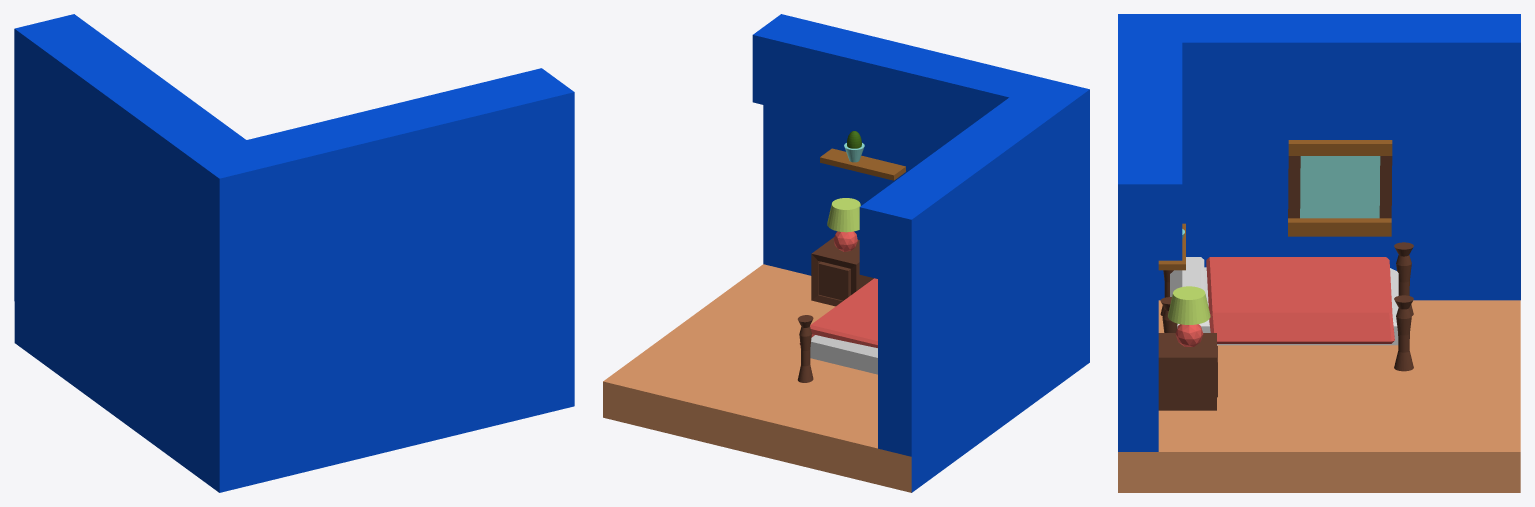
File: BedRoom.fbx
3 renders of one model, left to right at view 1: azimuth 30°, elevation 25°; view 2: azimuth 150°, elevation 25°; view 3: azimuth 270°, elevation 25°, orthographic. The views are drawn at different scales.
Visible parts, largest first — view 1: Cube; view 2: Cube; view 3: Cube.
Part boxes in pixels (x1,y1,x2,y2): Cube: [14, 14, 574, 492]; Cube: [603, 14, 1089, 492]; Cube: [1118, 14, 1520, 492].
Bounding box in the file's own units: 200 × 169 × 200.
